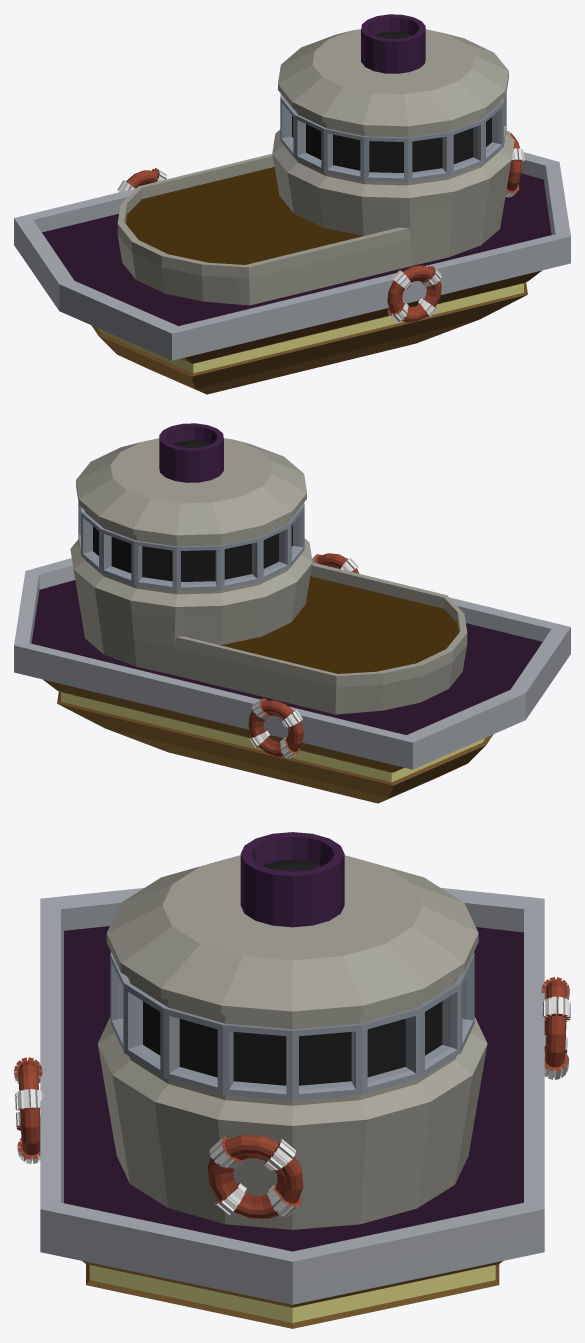
The model's file is Boat.fbx.
3 renders of one model, top to bottom at view 1: azimuth 30°, elevation 25°; view 2: azimuth 150°, elevation 25°; view 3: azimuth 270°, elevation 25°, orthographic. The views are drawn at different scales.
Parts seen in each view (by area): view 1: Cylinder, Cube, Torus.001, Torus, Torus.002; view 2: Cylinder, Cube, Torus.002, Torus.001; view 3: Cylinder, Cube, Torus, Torus.001, Torus.002.
Boxes of the visible parts, left/top/right/bottom form: Cylinder: left=117, top=14, right=514, bottom=305; Cube: left=14, top=152, right=570, bottom=394; Torus.001: left=387, top=265, right=441, bottom=322; Torus: left=505, top=131, right=524, bottom=197; Torus.002: left=117, top=168, right=167, bottom=192; Cylinder: left=70, top=423, right=467, bottom=714; Cube: left=14, top=558, right=570, bottom=803; Torus.002: left=248, top=698, right=303, bottom=758; Torus.001: left=312, top=553, right=359, bottom=573; Cylinder: left=97, top=832, right=487, bottom=1229; Cube: left=40, top=888, right=544, bottom=1328; Torus: left=207, top=1134, right=303, bottom=1218; Torus.001: left=14, top=1057, right=43, bottom=1163; Torus.002: left=541, top=977, right=570, bottom=1079.
Bounding box in the file's own units: 892 × 480 × 539.
